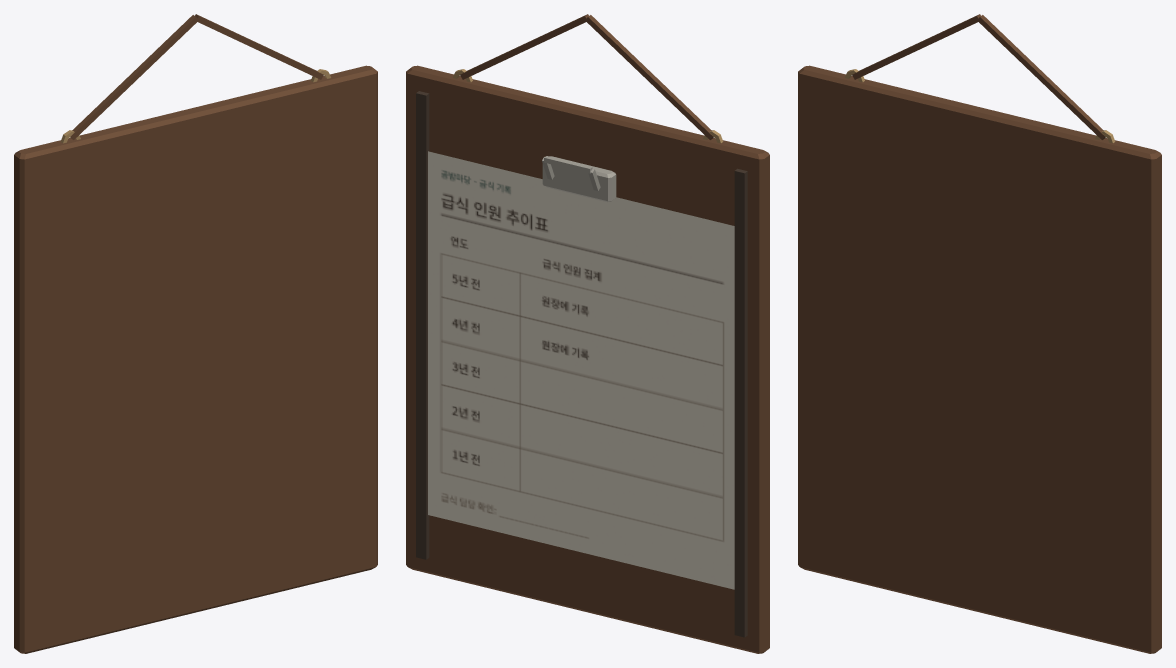
File: C08_Missing_Meal_Years.fbx
3 views of the same model, side by side, from view 1: azimuth 30°, elevation 25°; view 2: azimuth 150°, elevation 25°; view 3: azimuth 330°, elevation 25° (orthographic).
Visible parts, largest first — view 1: Tally_Board, Hanging_Hardware; view 2: Front_Meal_Record, Tally_Board, Hanging_Hardware, Top_Clip; view 3: Tally_Board, Hanging_Hardware.
Boxes of the visible parts, x1,y1,x2,y2 form: Tally_Board: [14, 65, 377, 653]; Hanging_Hardware: [60, 14, 330, 143]; Front_Meal_Record: [428, 151, 734, 589]; Tally_Board: [406, 65, 769, 653]; Hanging_Hardware: [453, 14, 723, 143]; Top_Clip: [542, 156, 616, 202]; Tally_Board: [798, 65, 1161, 653]; Hanging_Hardware: [845, 14, 1115, 143].
Bounding box in the file's own units: 0.63 × 0.9987 × 0.0778.
5 materials, 1 textured.
